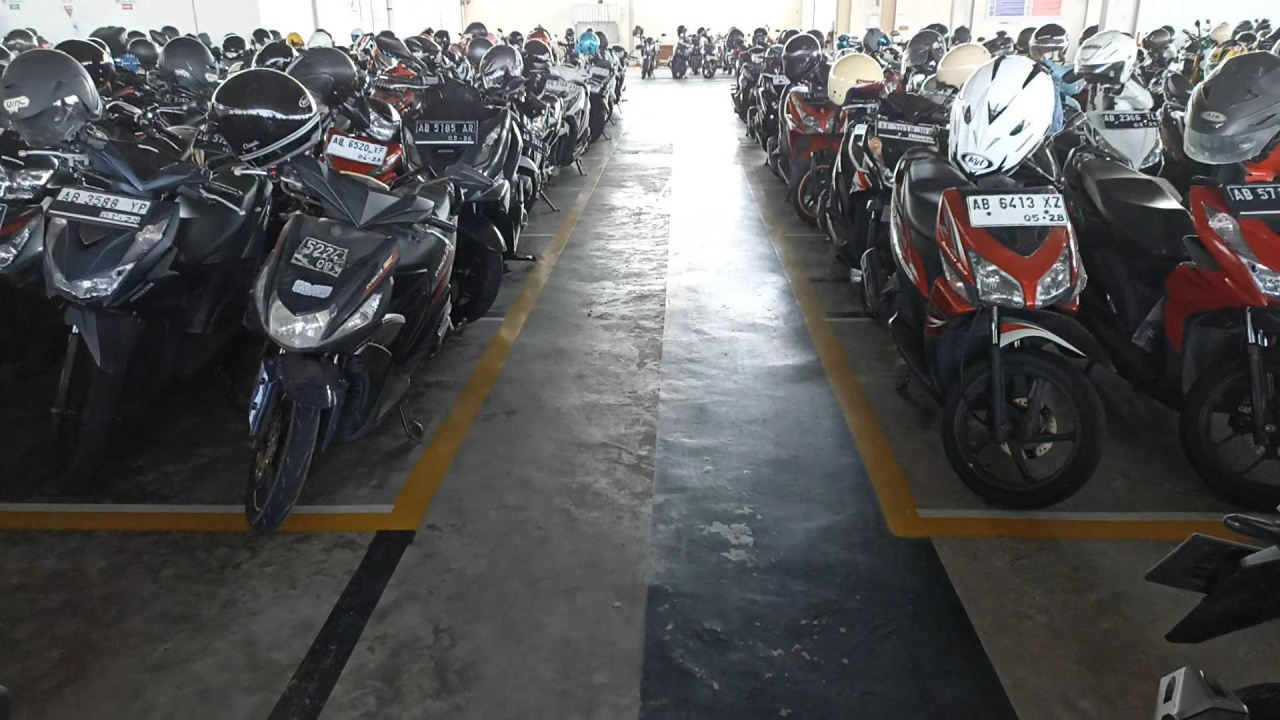plate: (47, 186, 155, 229), (968, 193, 1069, 226), (293, 237, 347, 277), (326, 134, 388, 165), (877, 119, 936, 144), (415, 121, 476, 144), (1103, 112, 1160, 129)
